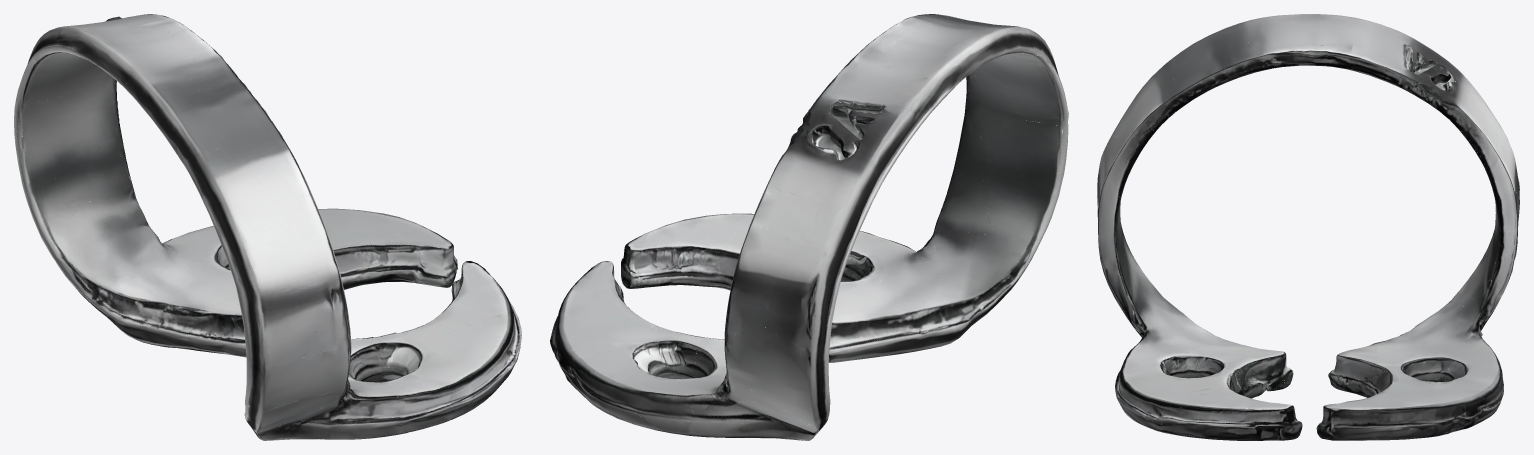
The picture shows the model from 3 angles, left to right: view 1: azimuth 30°, elevation 25°; view 2: azimuth 150°, elevation 25°; view 3: azimuth 270°, elevation 25°; orthographic projection. The views are drawn at different scales.
Parts seen in each view (by area): view 1: clamp; view 2: clamp; view 3: clamp.
Part boxes in pixels (<box>): clamp: <box>14,14,521,440</box>; clamp: <box>550,14,1068,440</box>; clamp: <box>1097,14,1519,440</box>.
Size of the model in its own units: 0.0136 by 0.013 by 0.0158.
Materials: 1 (1 with a texture image).
